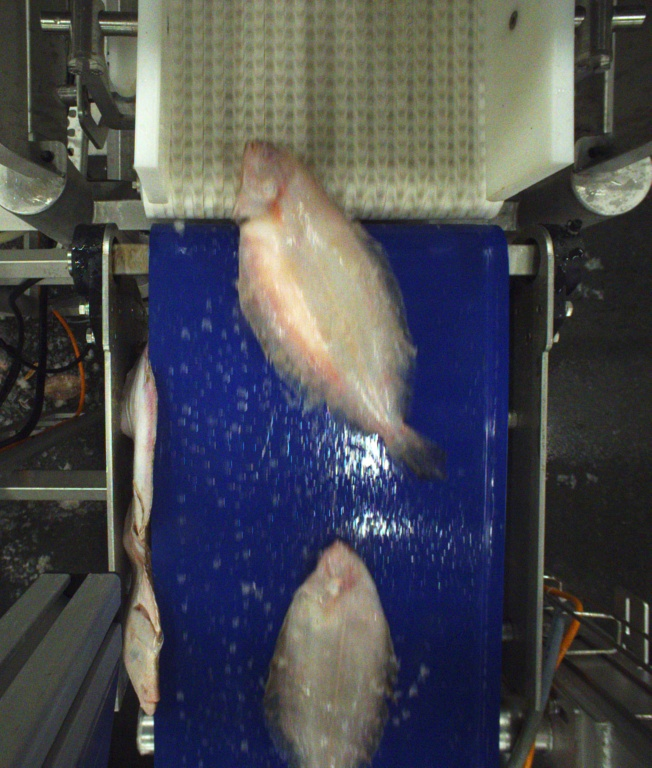WIT: (238, 133, 446, 486)
